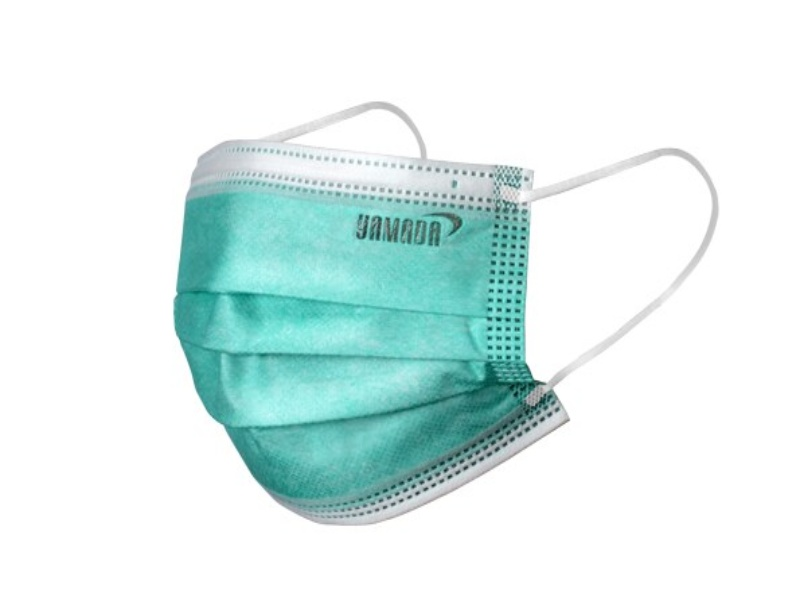mask: (171, 137, 572, 529)
